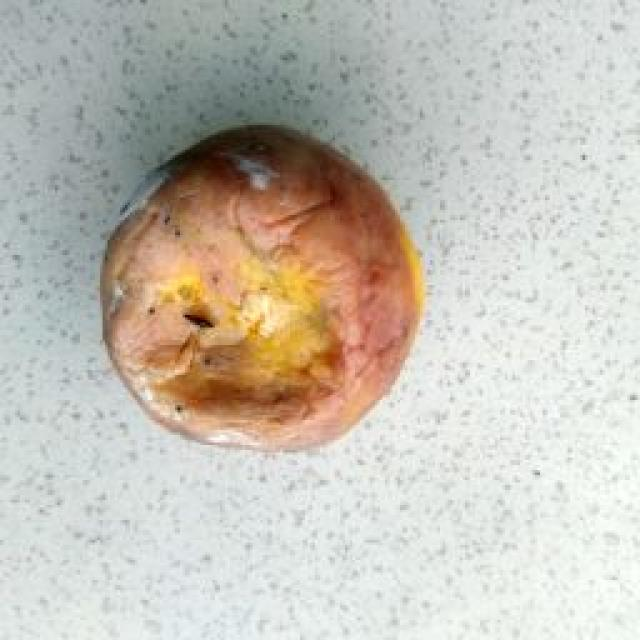Bad_Orange: (102, 125, 422, 449)
